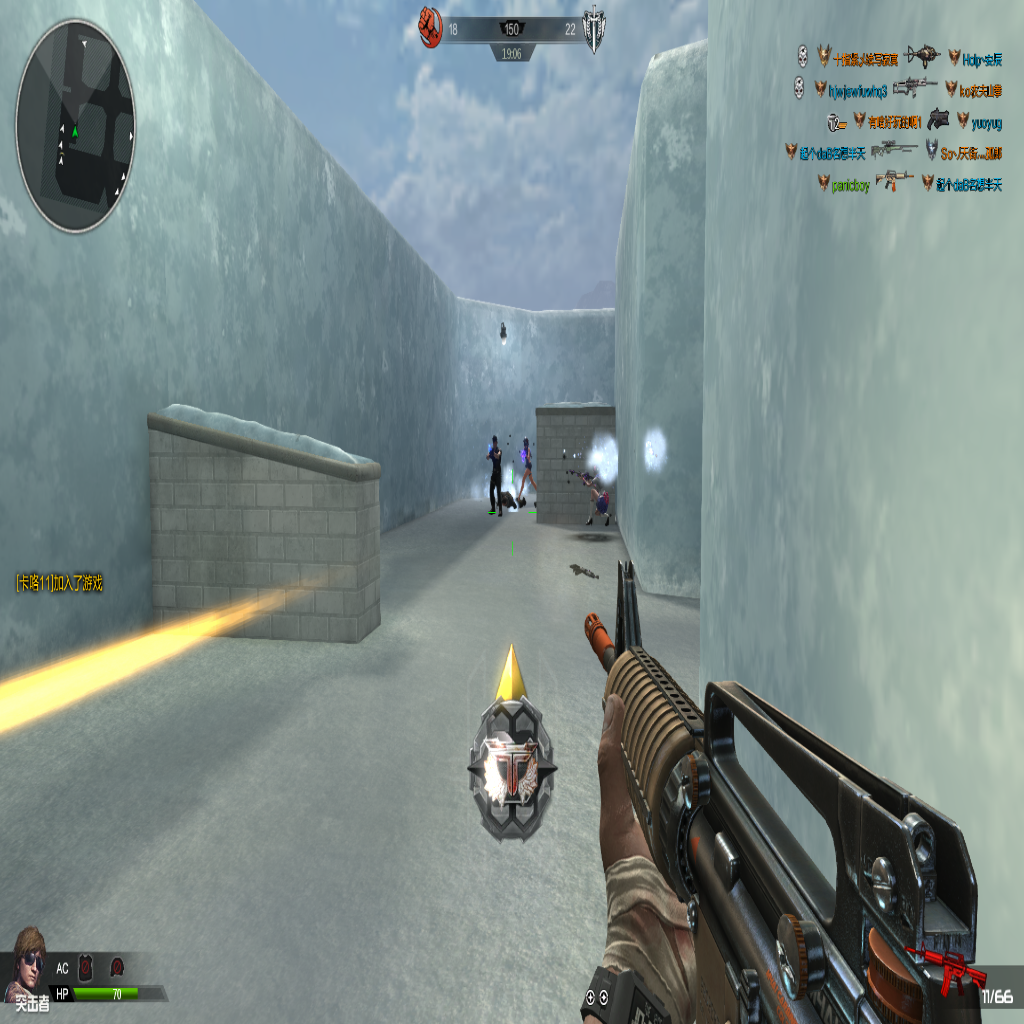ct: (515, 437, 534, 506), (487, 432, 502, 516)
tt: (582, 476, 610, 526)
